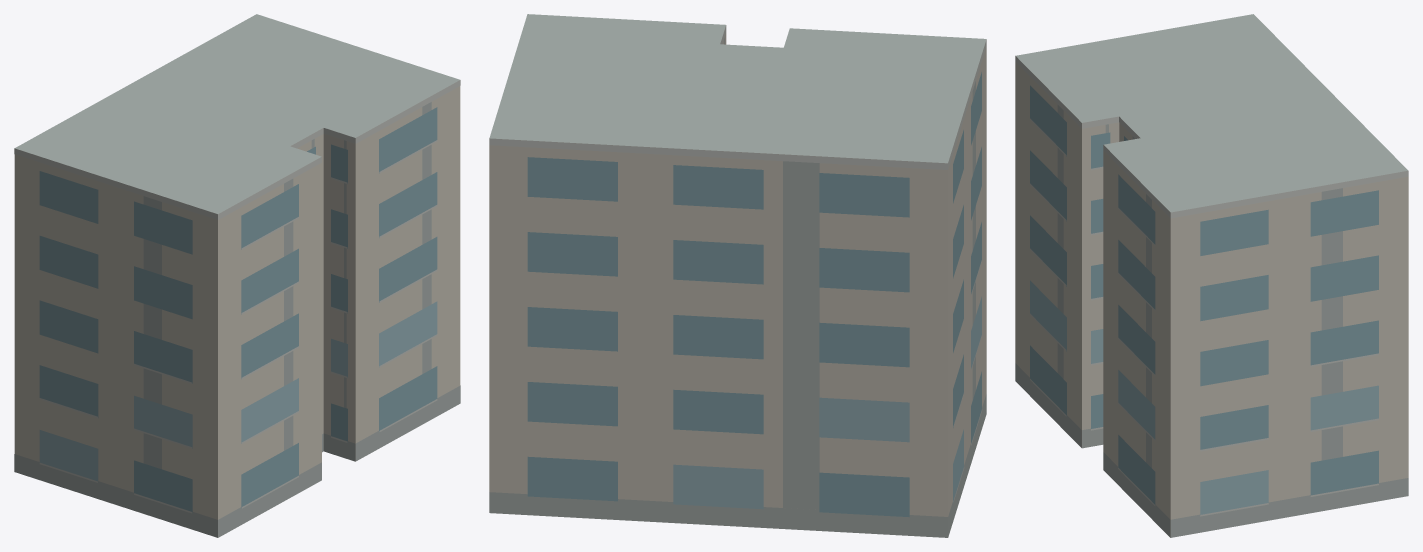
Rendered from survey-upis-32661128.glb.
3 views of the same model, side by side, from view 1: azimuth 30°, elevation 25°; view 2: azimuth 150°, elevation 25°; view 3: azimuth 270°, elevation 25° (orthographic). The views are drawn at different scales.
Parts seen in each view (by area): view 1: survey-upis-32661128.tmp; view 2: survey-upis-32661128.tmp; view 3: survey-upis-32661128.tmp.
Boxes of the visible parts, x1=… form: survey-upis-32661128.tmp: x1=14, y1=14, x2=460, y2=537; survey-upis-32661128.tmp: x1=489, y1=14, x2=986, y2=537; survey-upis-32661128.tmp: x1=1015, y1=14, x2=1408, y2=537.
Size of the model in its own units: 17.54 by 13.4 by 14.68.
